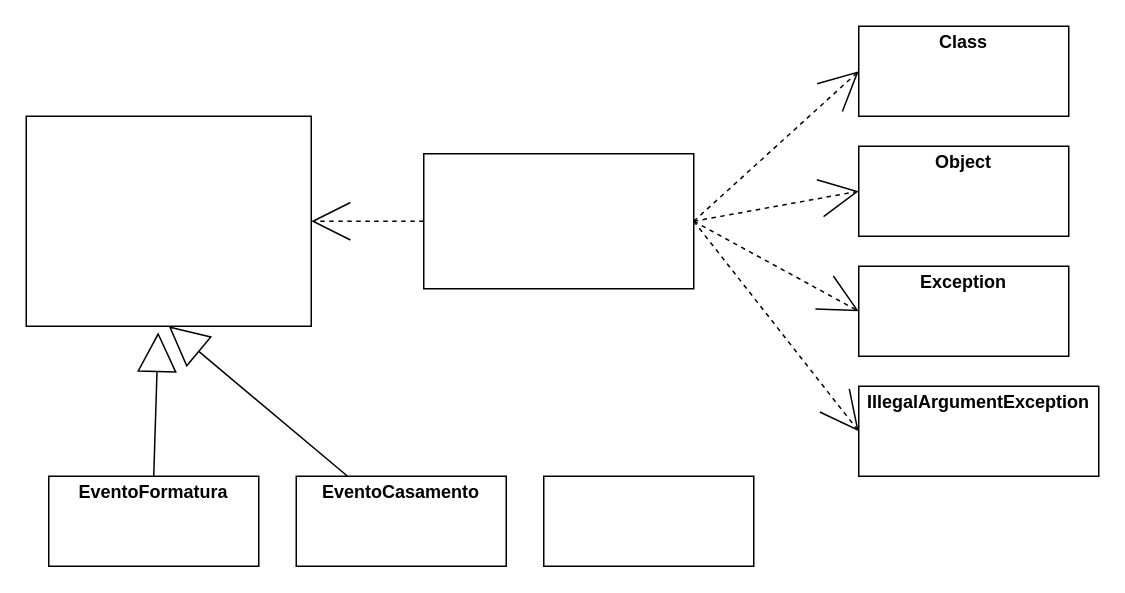
Image size: 1125x593. Some labels were removed from this diagram. Here are the shapes that lost their labels. From the top down, the box of each, then its label:
(25, 115, 311, 326): <<Interface>> IEvento + agendar(): String + cancelar(): String
(422, 152, 694, 289): EventoFactory + criarEvento( String ): IEvento
(542, 475, 754, 566): EventoAniversario
